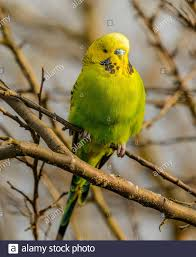budgie: (59, 31, 148, 240)
